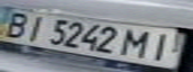2: (96, 24, 124, 55), (63, 19, 84, 51)
4: (78, 21, 103, 53)
5: (42, 16, 72, 47)
B: (0, 9, 36, 38)
I: (142, 29, 184, 61), (18, 11, 51, 43)
M: (118, 27, 160, 60)
